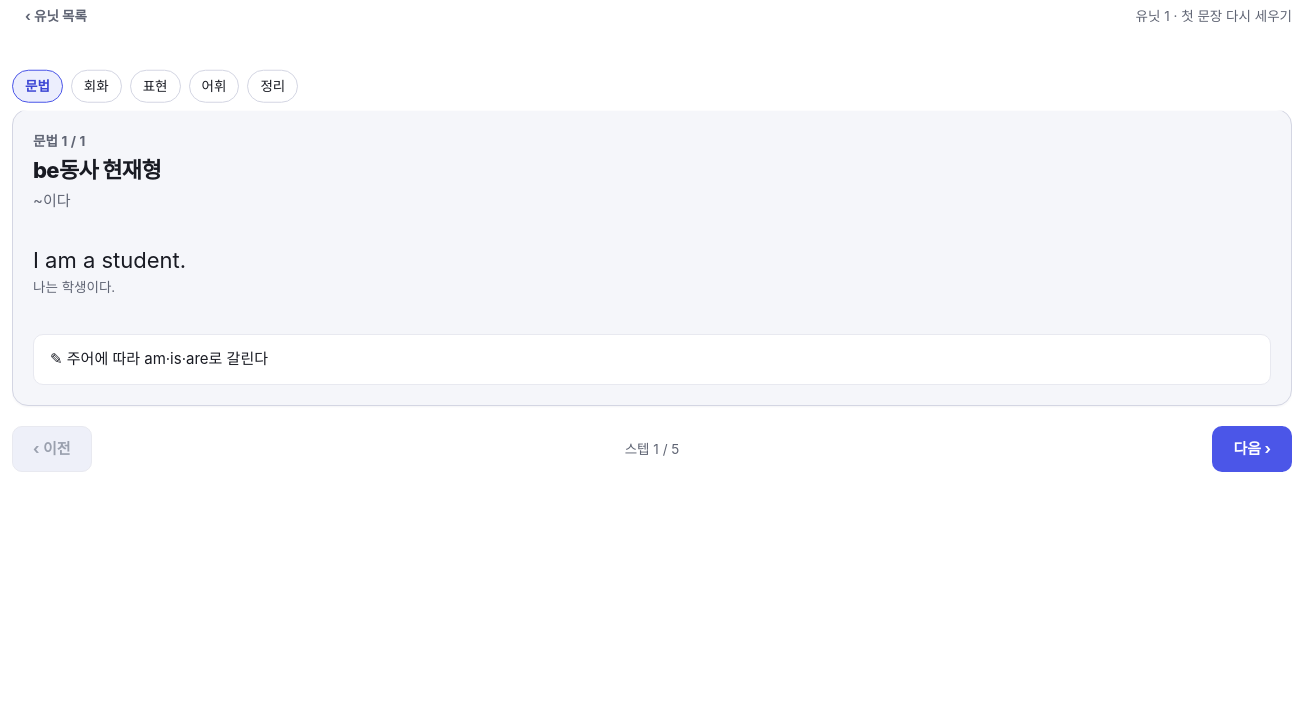
Test case: 표현 스텝 (§3-2) › 표현 카드가 표제·발음·뜻·용법·예문을 보여준다
Step 1. Click the button "표현" → click(155, 86), box [130,70,180,102]
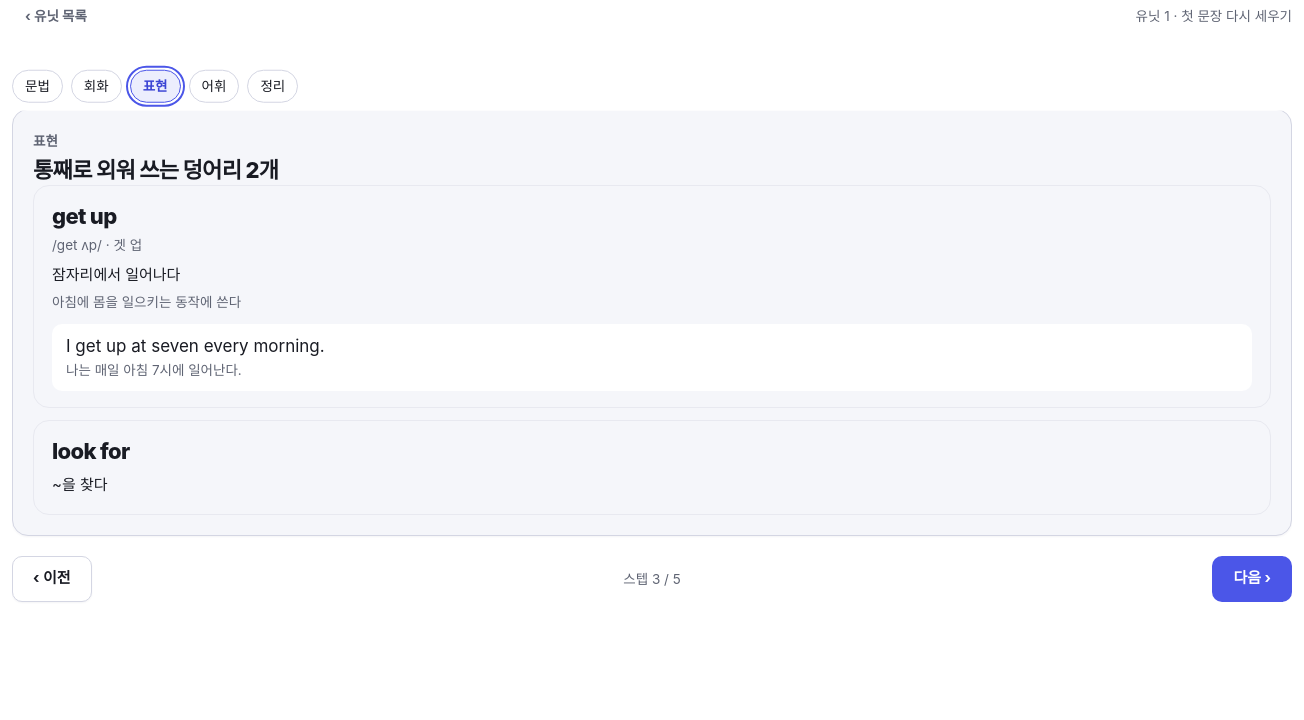
Result: the text "get up" is shown at [52,202,116,232]
Result: the text "/ɡet ʌp/ · 겟 업" is shown at [52,237,142,253]
Result: the text "잠자리에서 일어나다" is shown at [52,264,180,284]
